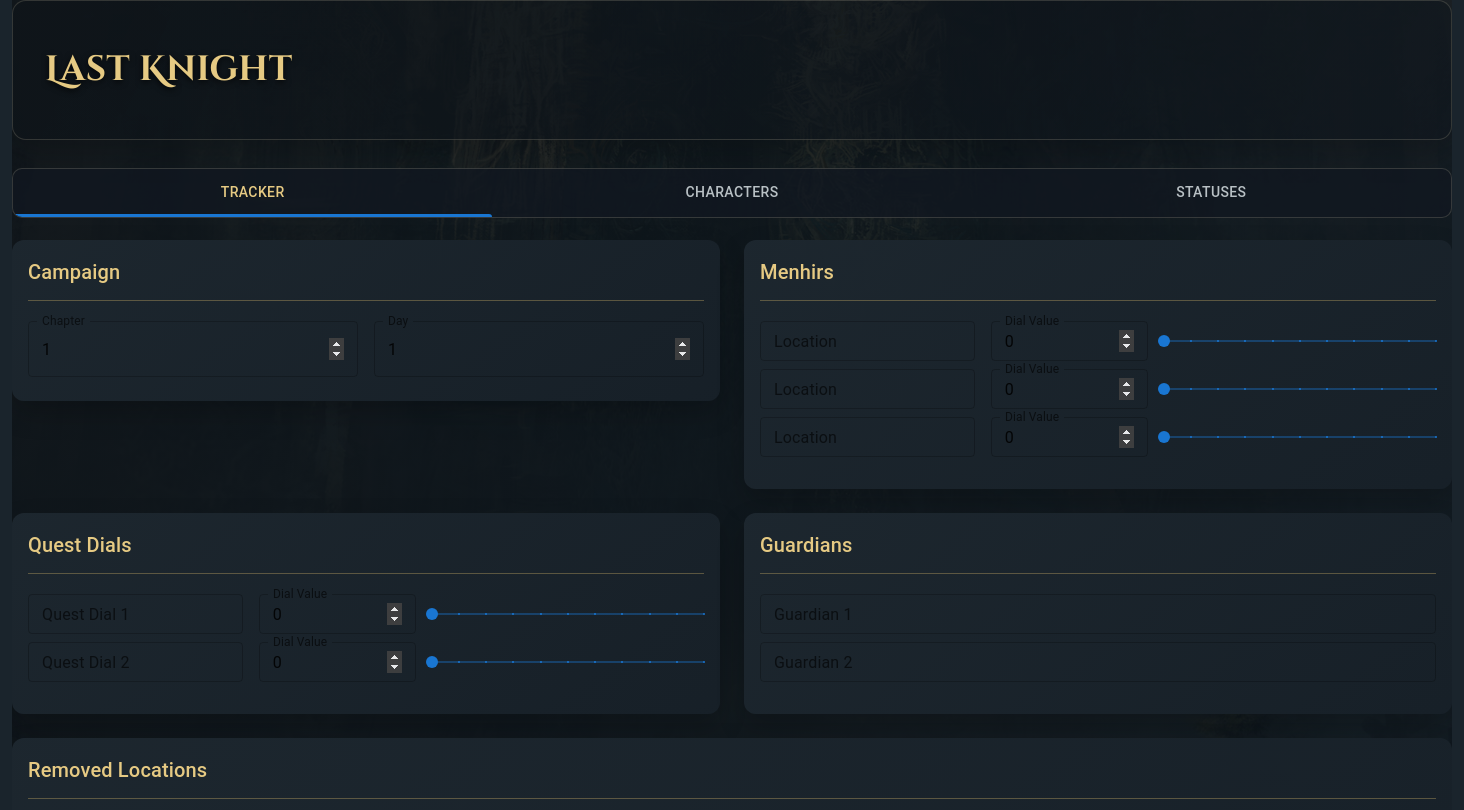
campaign tracker › renders the Last Knight PDF statuses and its single caption
The image size is (1464, 810).
Step 1. Click the tab "Statuses" → (1211, 193), box left=972, top=169, right=1451, bottom=217
(page scrolled)
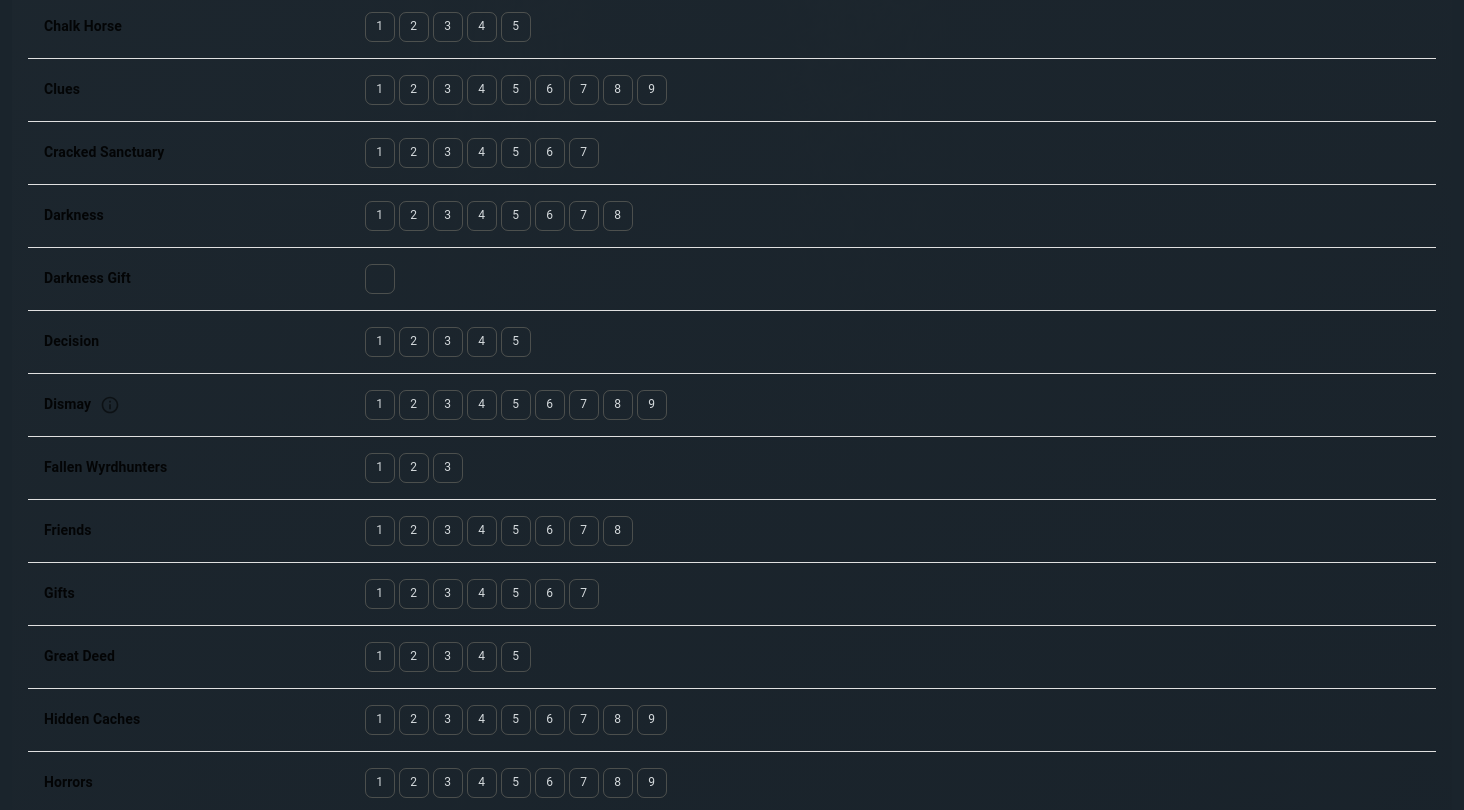
Expected: the number of rows is 42
Expected: the number of buttons named "Status information" is 1, left=95, top=390, right=125, bottom=420
Expected: the heading "Dismay" is shown, left=44, top=394, right=91, bottom=416
